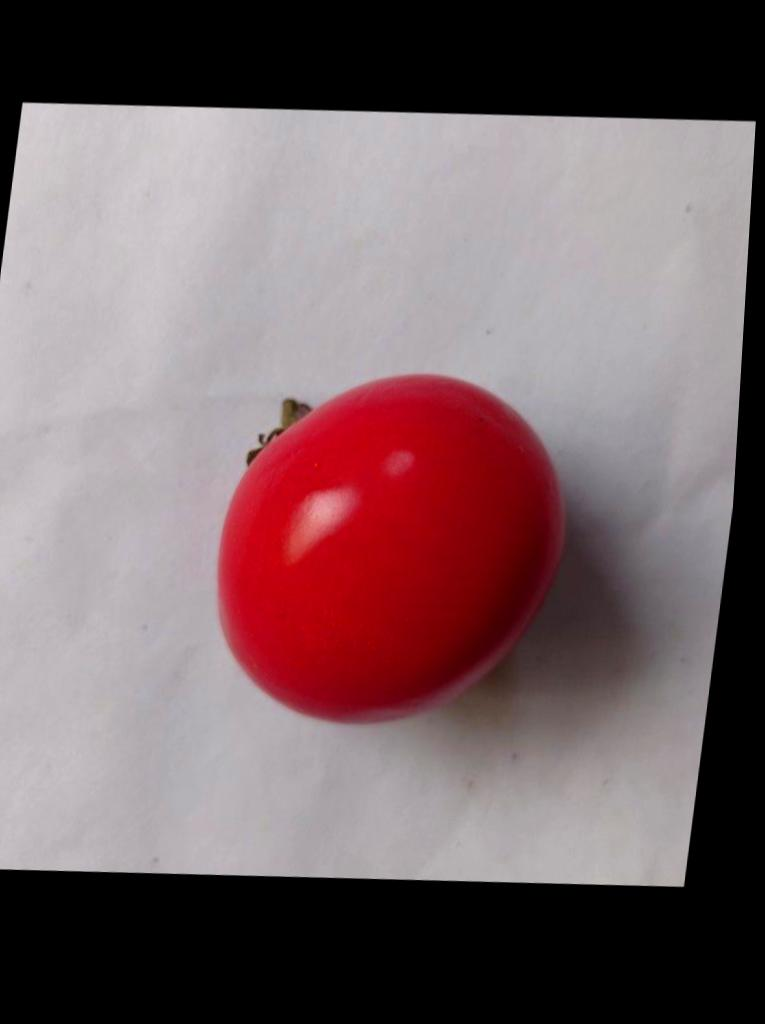tomato: (217, 375, 560, 722)
